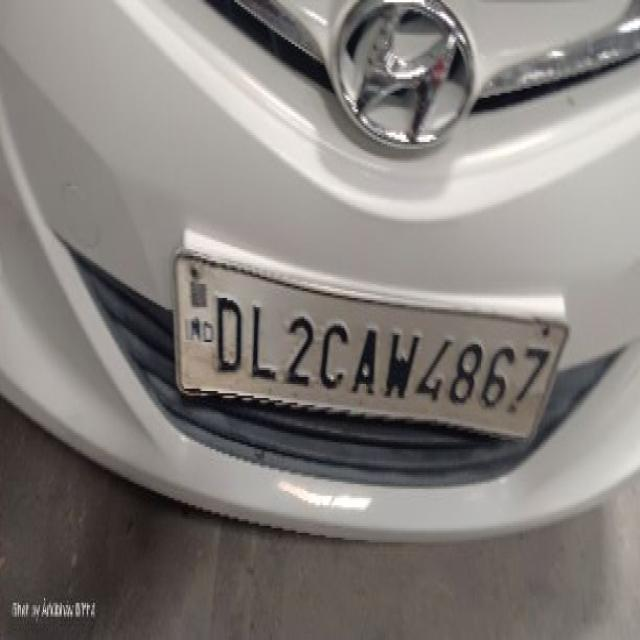license_plate: (0, 0, 639, 545), (171, 238, 570, 444)
